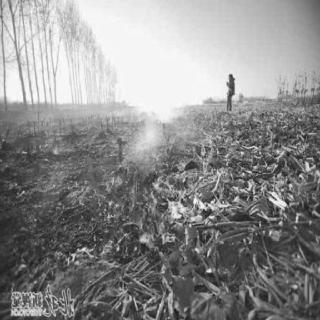Smoke: (143, 106, 163, 142)
